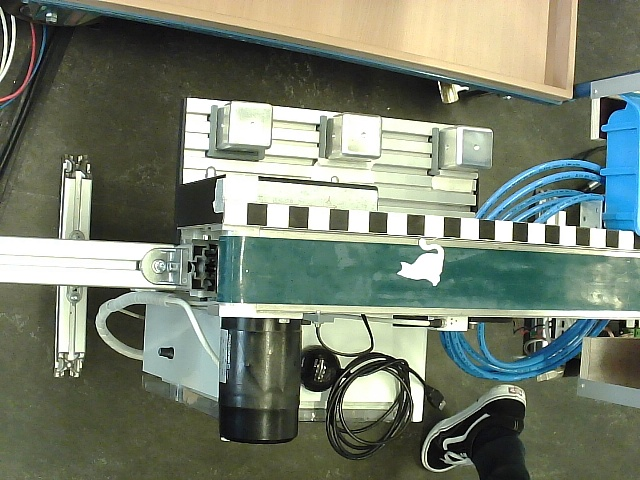cat: (397, 237, 445, 286)
